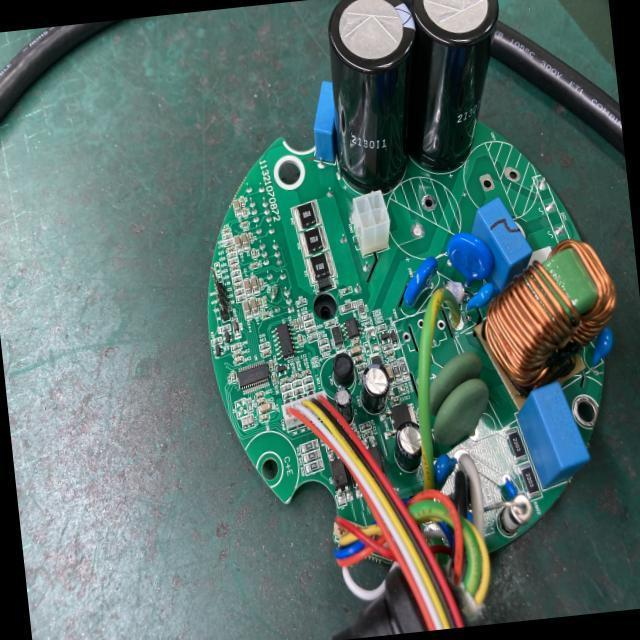damged: (267, 284, 281, 306)
